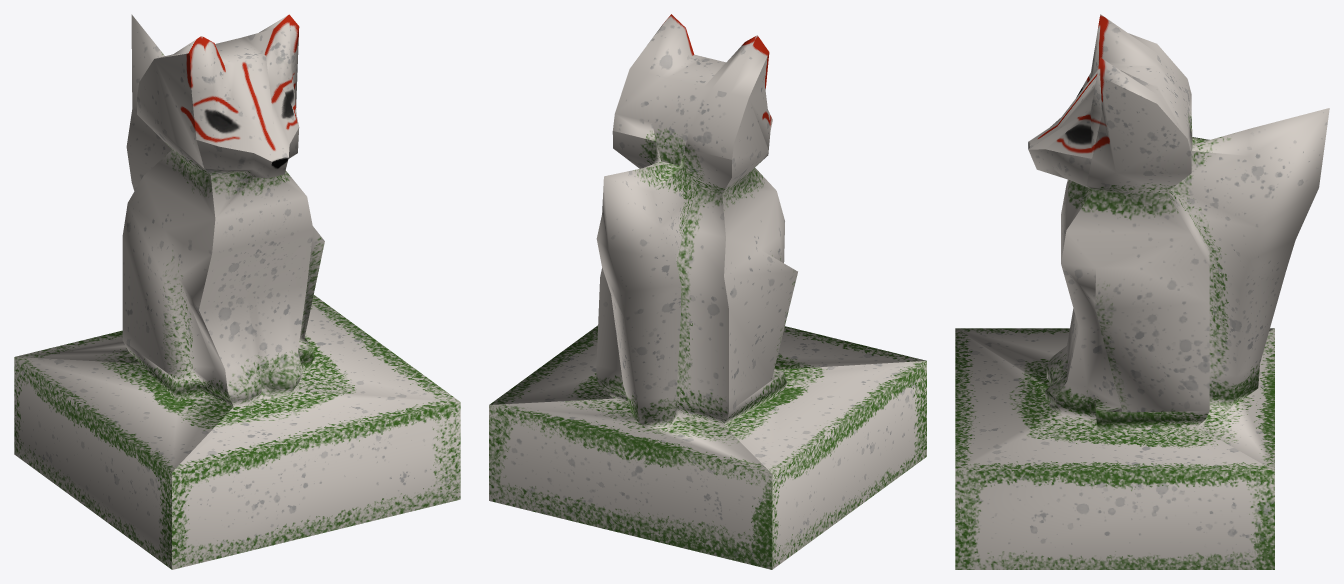
Rendered from FoxStatus01.fbx.
3 views of the same model, side by side, from view 1: azimuth 30°, elevation 25°; view 2: azimuth 150°, elevation 25°; view 3: azimuth 270°, elevation 25° (orthographic). The views are drawn at different scales.
Parts seen in each view (by area): view 1: FoxStatus; view 2: FoxStatus; view 3: FoxStatus.
Boxes of the visible parts, x1,y1,x2,y2 form: FoxStatus: [14, 14, 460, 569]; FoxStatus: [489, 14, 926, 569]; FoxStatus: [955, 14, 1329, 569].
Size of the model in its own units: 46.25 by 70.06 by 51.33.
